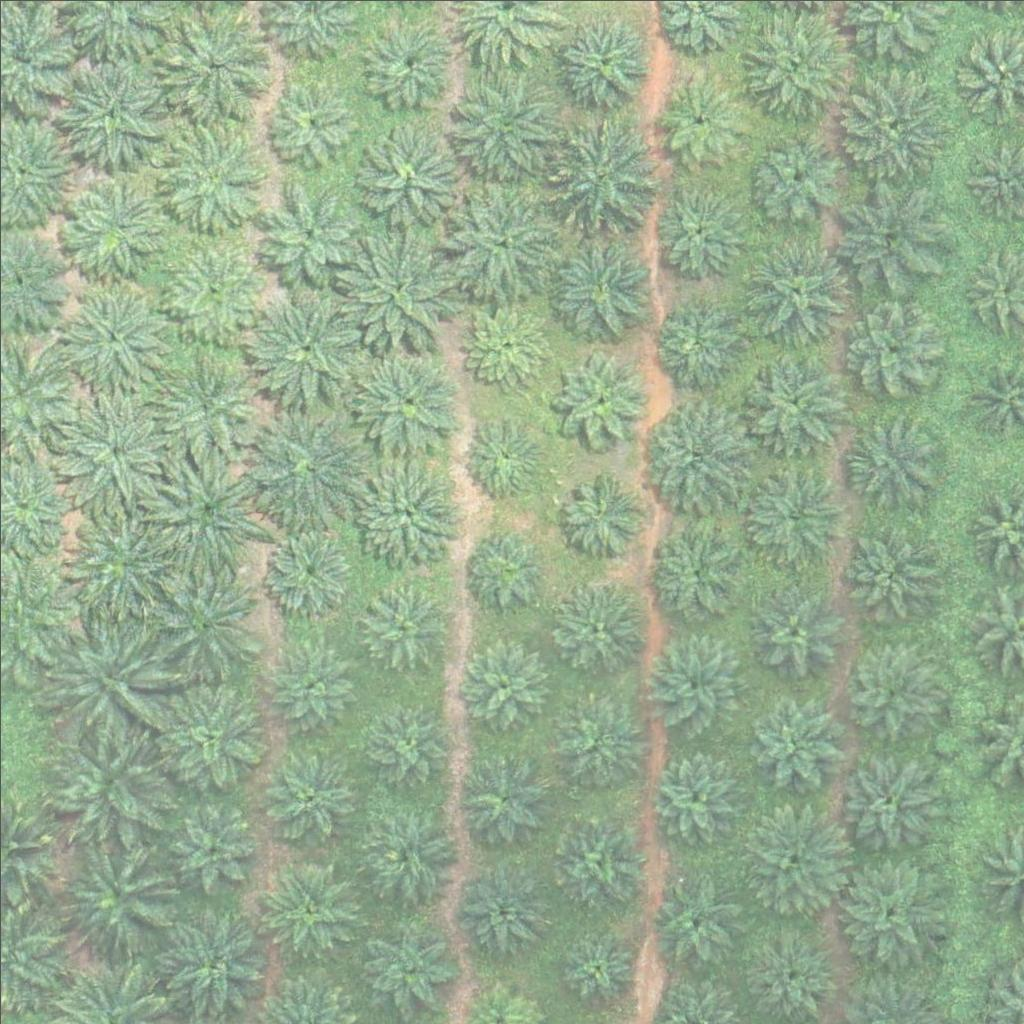Kelapa_Sawit: (48, 728, 161, 842), (48, 621, 161, 735), (737, 344, 850, 458), (637, 398, 750, 512), (540, 228, 653, 342), (548, 115, 661, 229), (734, 804, 847, 917), (828, 859, 941, 972), (829, 746, 942, 859), (831, 64, 944, 177), (542, 7, 655, 120), (351, 456, 464, 569), (350, 340, 463, 453), (247, 407, 360, 520), (249, 289, 362, 402), (153, 117, 266, 230), (161, 8, 274, 121), (68, 507, 181, 620), (64, 844, 176, 958), (443, 183, 555, 297), (446, 71, 558, 185), (349, 3, 461, 117), (153, 678, 265, 791), (146, 564, 258, 677), (636, 629, 748, 742), (832, 185, 944, 298), (739, 238, 851, 351), (742, 7, 854, 120), (342, 234, 454, 347), (348, 121, 460, 234), (151, 449, 263, 562), (149, 347, 261, 460), (60, 388, 172, 501), (59, 277, 171, 390), (54, 53, 166, 166), (257, 749, 357, 850), (356, 804, 456, 905), (452, 861, 552, 962), (452, 749, 552, 850), (547, 692, 647, 793), (546, 579, 646, 680), (646, 742, 746, 843), (743, 691, 843, 792), (842, 301, 942, 402), (745, 130, 845, 231), (261, 184, 361, 285), (165, 238, 265, 339), (65, 178, 165, 279), (163, 917, 263, 1017), (260, 858, 360, 958), (359, 916, 459, 1016), (839, 645, 939, 745), (839, 523, 939, 623), (834, 415, 934, 515), (742, 467, 842, 567), (648, 293, 748, 393), (648, 179, 748, 279), (551, 347, 651, 447), (651, 878, 739, 967), (267, 641, 355, 729), (262, 524, 350, 612), (365, 699, 453, 787), (556, 468, 644, 556), (458, 414, 546, 502), (461, 300, 549, 388), (359, 581, 446, 670), (459, 641, 546, 730), (168, 806, 255, 894), (553, 820, 640, 908), (751, 584, 838, 672), (651, 529, 738, 617), (656, 75, 743, 163), (461, 526, 548, 614), (265, 78, 352, 166), (554, 932, 629, 1007)
